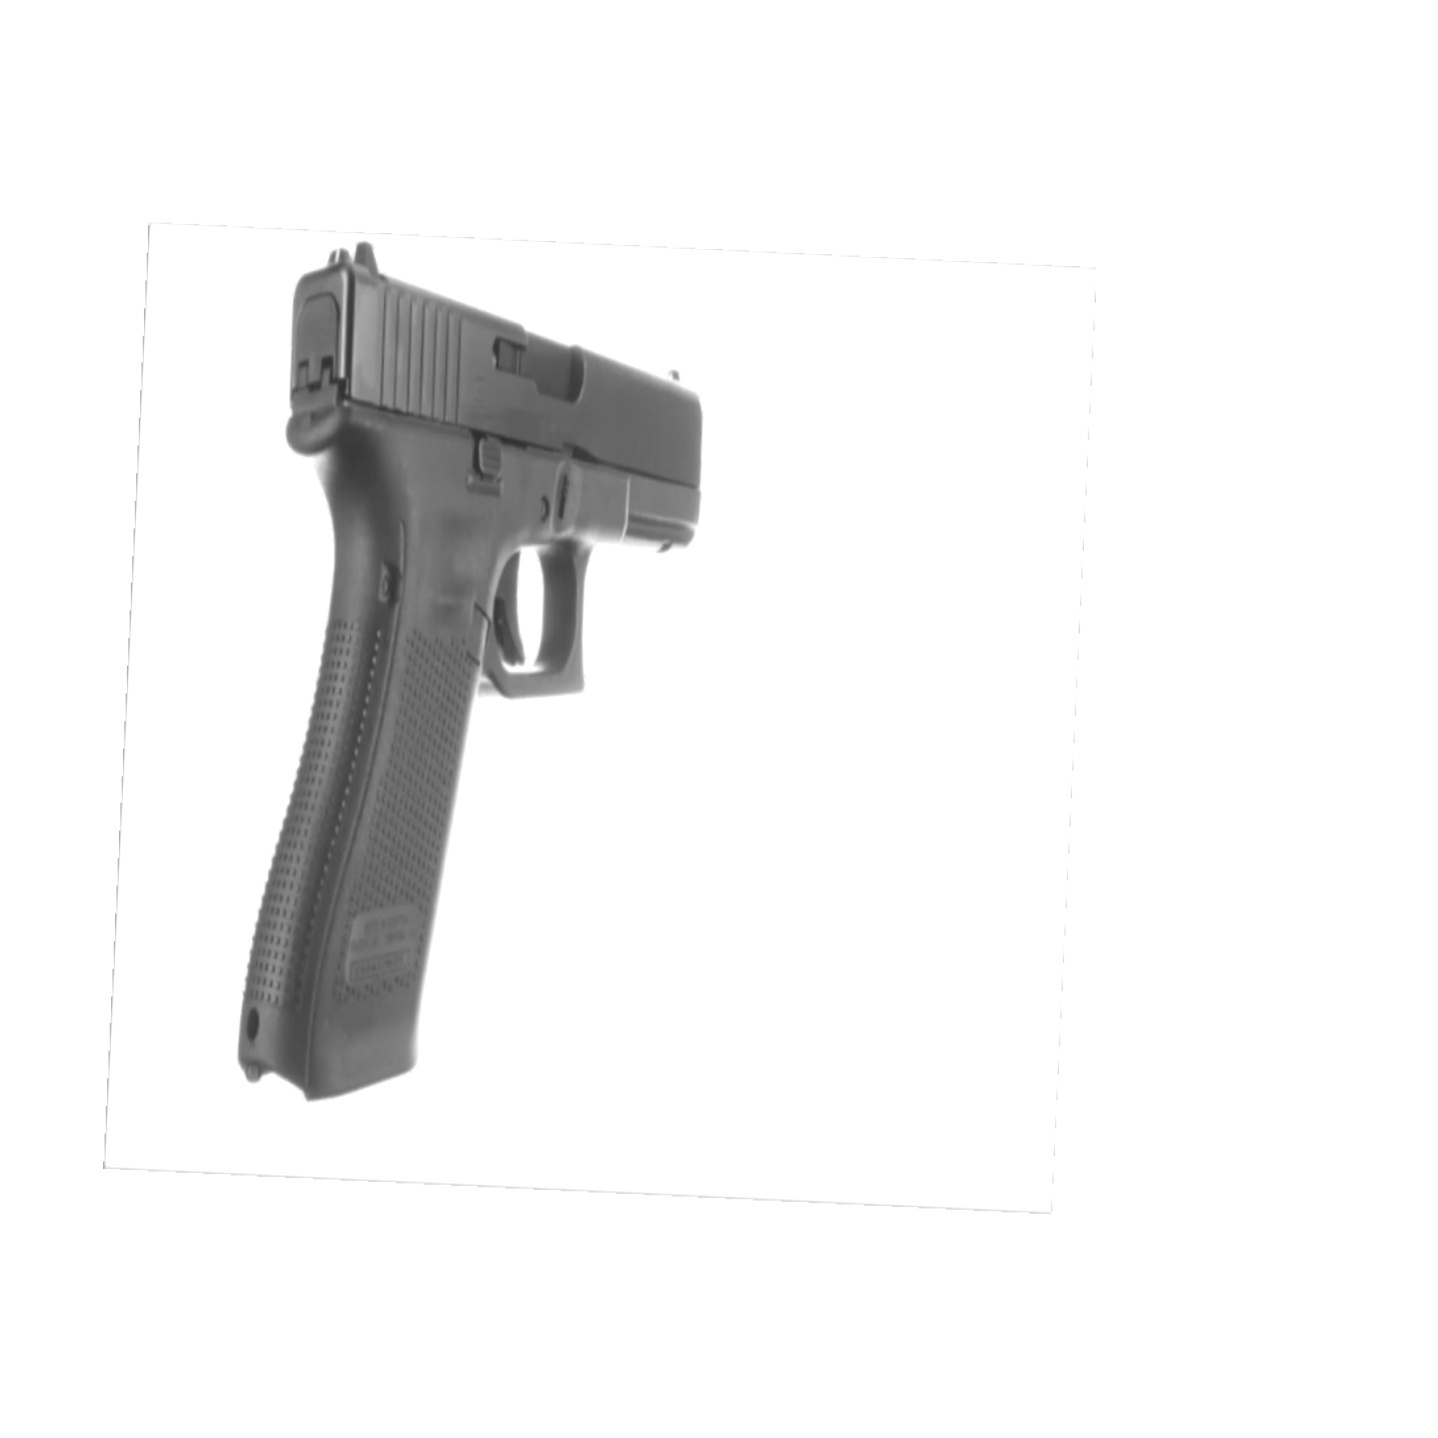gun: (223, 240, 708, 1114)
